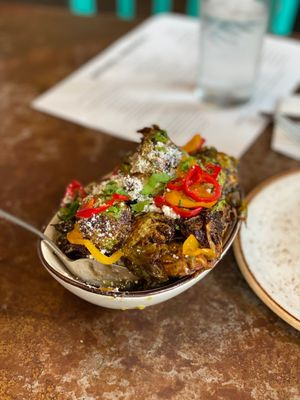pizza: (193, 0, 268, 105)
sushi: (35, 120, 244, 311)
